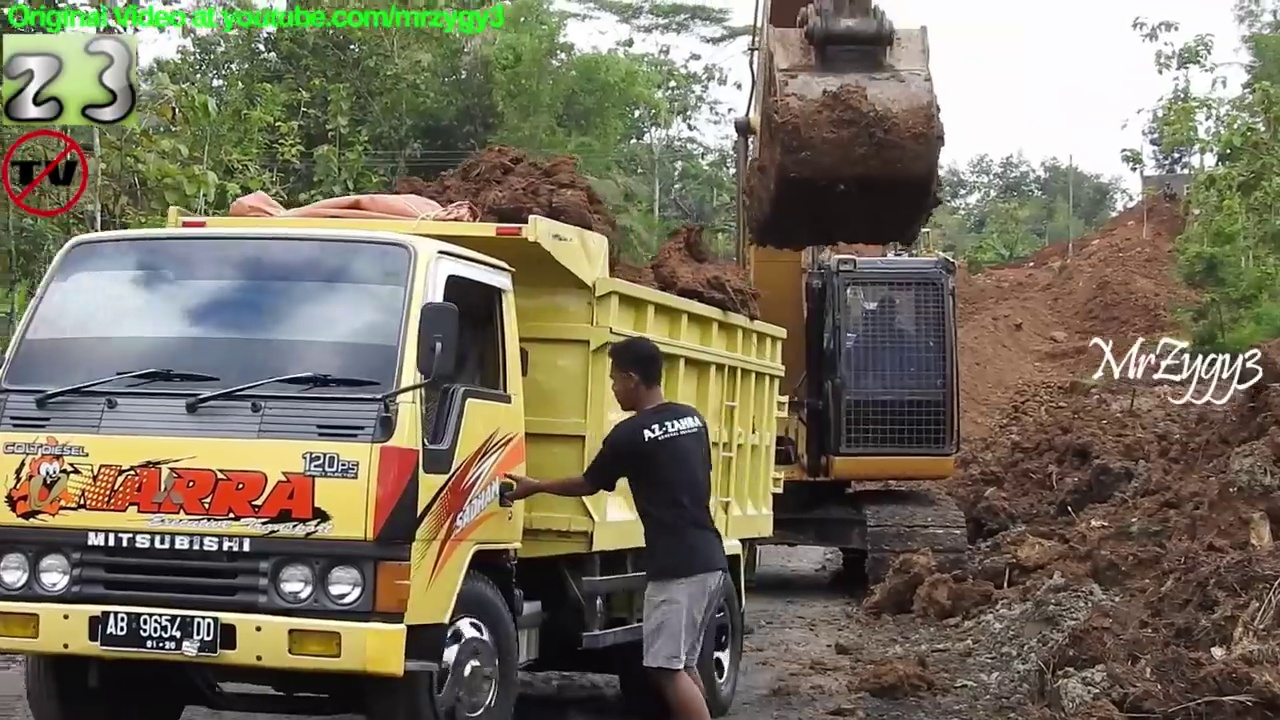excavator: (749, 1, 974, 576)
person: (505, 334, 737, 720)
truck: (5, 186, 786, 720)
